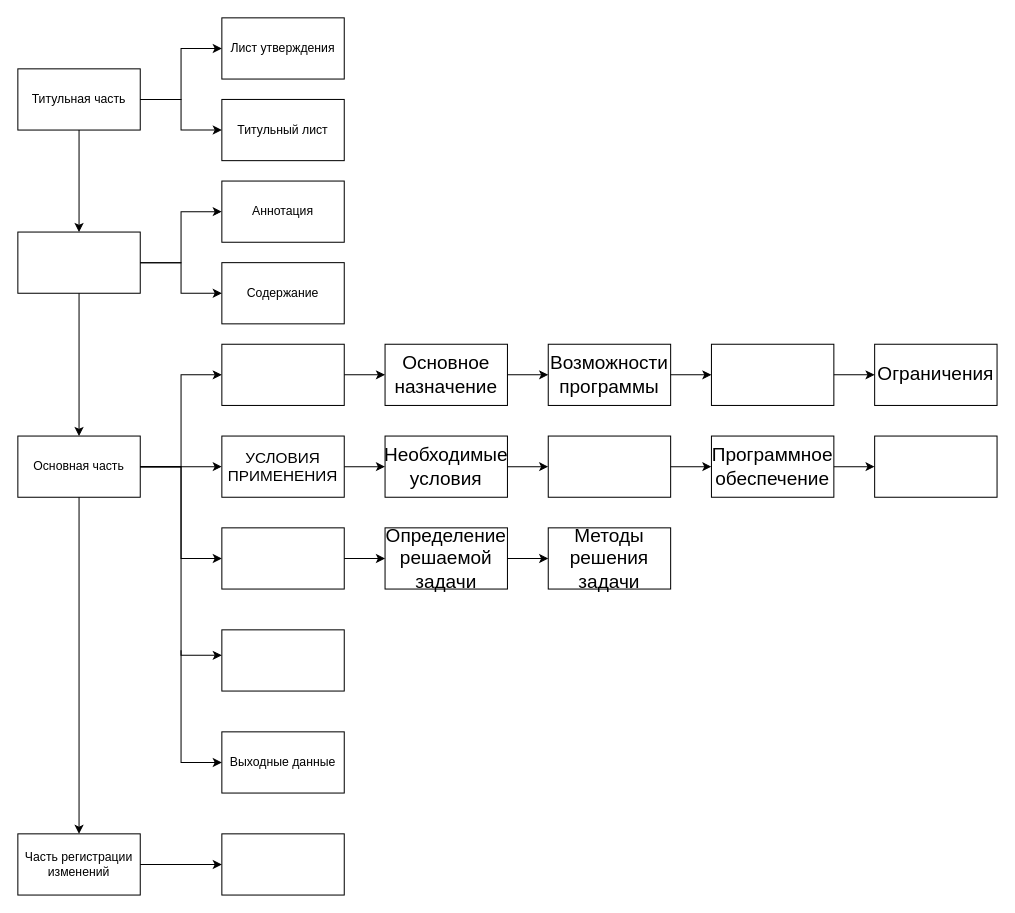
Image size: 1015x913. Some labels were removed from this diagram. Here are the shapes that lost their labels. From the top down, the centre of each, then its label:
At pixel 78 262: "Информационная часть".
At pixel 282 374: "назначение программы".
At pixel 772 374: "Основные характеристики".
At pixel 609 466: "Требования к техническим средствам".
At pixel 935 466: "Организационные и технические требования".
At pixel 282 558: "ОПИСАНИЕ ПРИМЕНЕНИЯ".
At pixel 282 660: "Входные данные".
At pixel 282 864: "Лист регистрации изменений".
